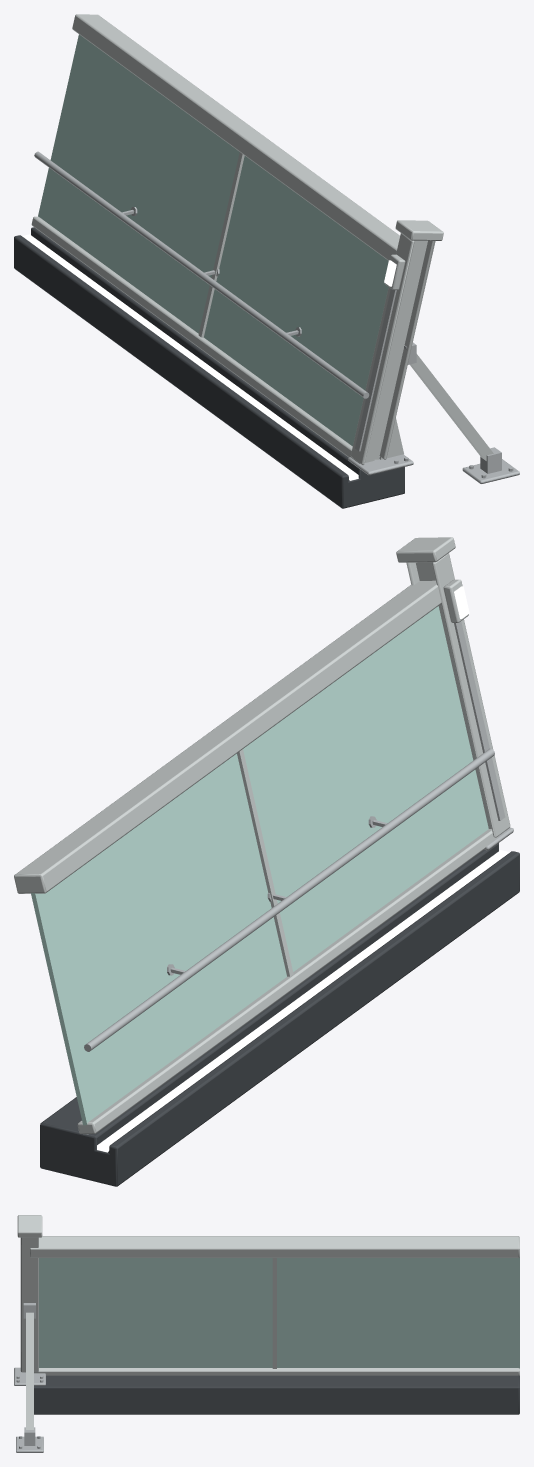
File: wall.glb
3 views of the same model, one above another, from view 1: azimuth 30°, elevation 25°; view 2: azimuth 150°, elevation 25°; view 3: azimuth 270°, elevation 25° (orthographic). The views are drawn at different scales.
Parts seen in each view (by area): view 1: wall; view 2: wall; view 3: wall.
Boxes of the visible parts, left/top/right/bottom form: wall: left=14, top=14, right=519, bottom=508; wall: left=14, top=537, right=519, bottom=1186; wall: left=14, top=1215, right=519, bottom=1452.
Size of the model in its own units: 2.37 by 3.6 by 8.26.
